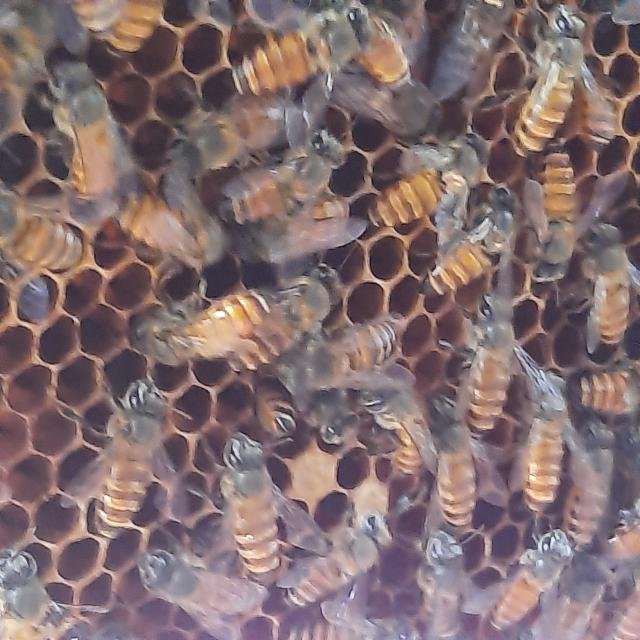honeybee: (219, 127, 349, 228), (512, 5, 592, 162), (358, 138, 506, 219), (234, 7, 370, 92), (50, 61, 124, 210), (131, 548, 259, 631), (101, 374, 167, 533), (425, 190, 523, 296), (489, 527, 574, 634), (150, 278, 277, 348), (222, 435, 284, 575), (0, 549, 93, 640), (114, 181, 214, 264), (341, 0, 425, 98), (0, 182, 86, 275), (452, 294, 515, 415), (577, 222, 637, 347), (428, 400, 486, 528), (535, 135, 580, 297), (520, 370, 571, 500), (65, 0, 167, 64), (291, 310, 402, 368), (410, 538, 472, 636), (574, 427, 614, 538)
